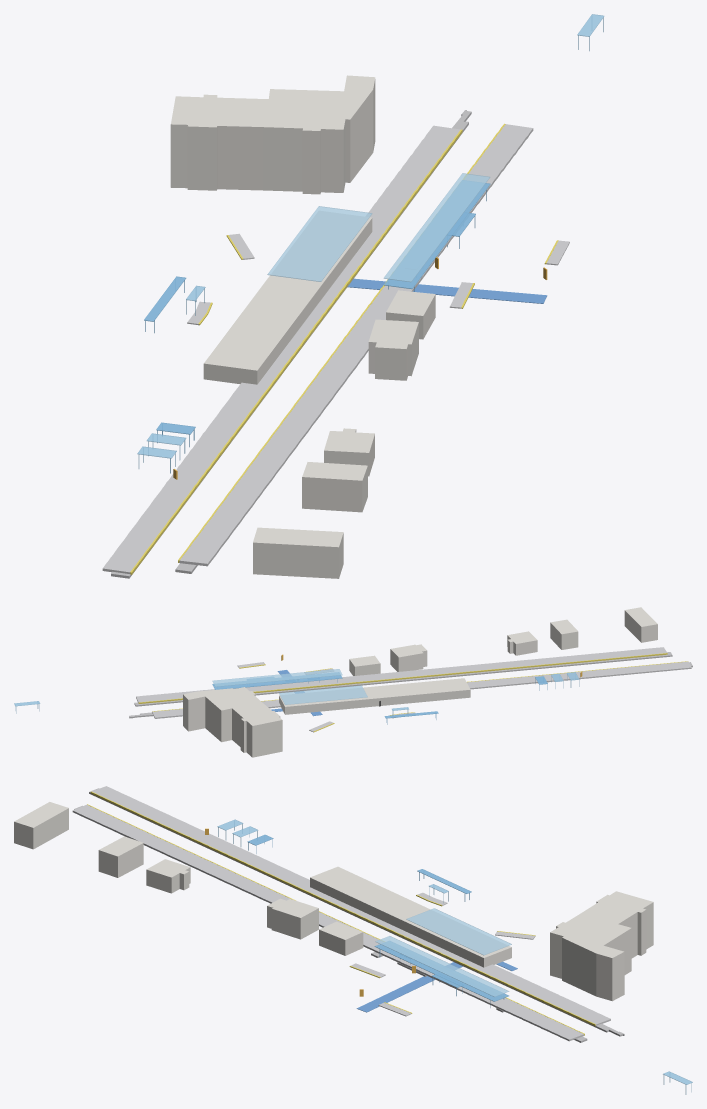
Rendered from 8504106-bern-buempliz-sued.glb.
The picture shows the model from 3 angles, top to bottom: view 1: azimuth 30°, elevation 25°; view 2: azimuth 150°, elevation 25°; view 3: azimuth 270°, elevation 25°; orthographic projection. The views are drawn at different scales.
Parts seen in each view (by area): view 1: building_part@x, platform_body@0, roof@0, shelter@0, boarding_edge@0, passage@-1, canopy@0, platform_surface@0; view 2: building_part@x, platform_body@0, roof@0, platform_surface@0, boarding_edge@0, shelter@0, canopy@0; view 3: building_part@x, platform_body@0, roof@0, boarding_edge@0, shelter@0, platform_surface@0, canopy@0, passage@-1.
Boxes of the visible parts, box(x1,y1,x2,y2) form: building_part@x: box(170, 75, 435, 578); platform_body@0: box(102, 124, 569, 573); roof@0: box(267, 173, 490, 282); shelter@0: box(144, 180, 490, 447); boarding_edge@0: box(130, 123, 558, 574); passage@-1: box(347, 278, 547, 303); canopy@0: box(137, 14, 604, 473); platform_surface@0: box(111, 110, 483, 578); building_part@x: box(183, 607, 657, 757); platform_body@0: box(136, 647, 691, 732); roof@0: box(212, 669, 367, 704); platform_surface@0: box(129, 652, 692, 718); boarding_edge@0: box(138, 653, 688, 732); shelter@0: box(212, 672, 547, 724); canopy@0: box(14, 672, 579, 716); building_part@x: box(14, 802, 653, 1001); platform_body@0: box(72, 786, 610, 1041); roof@0: box(375, 908, 511, 997); boarding_edge@0: box(87, 791, 595, 1035); shelter@0: box(247, 834, 508, 1007); platform_surface@0: box(74, 788, 624, 1042); canopy@0: box(217, 819, 692, 1094); passage@-1: box(356, 962, 462, 1012).
Bounding box in the file's own units: 215 × 18.62 × 200.
